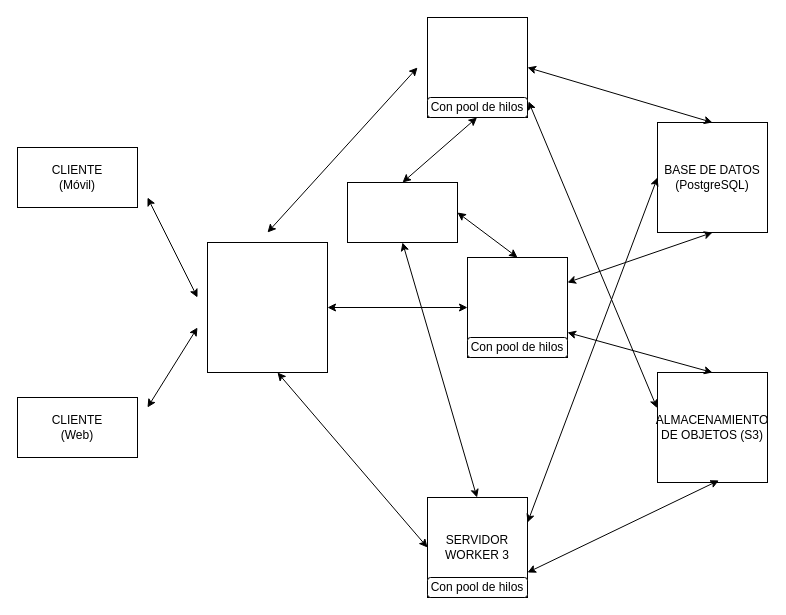
Some shapes in this 786 by 615 pixel diagram are drawn without their labels. Each missing label, with the box of its shape:
BALANCEADOR DE CARGA (Nginx): (206, 242, 328, 372)
Cola de Mensajes (RabbitMQ): (346, 182, 458, 242)
SERVIDOR WORKER 1: (426, 16, 528, 118)
SERVIDOR WORKER 2: (466, 256, 568, 358)
